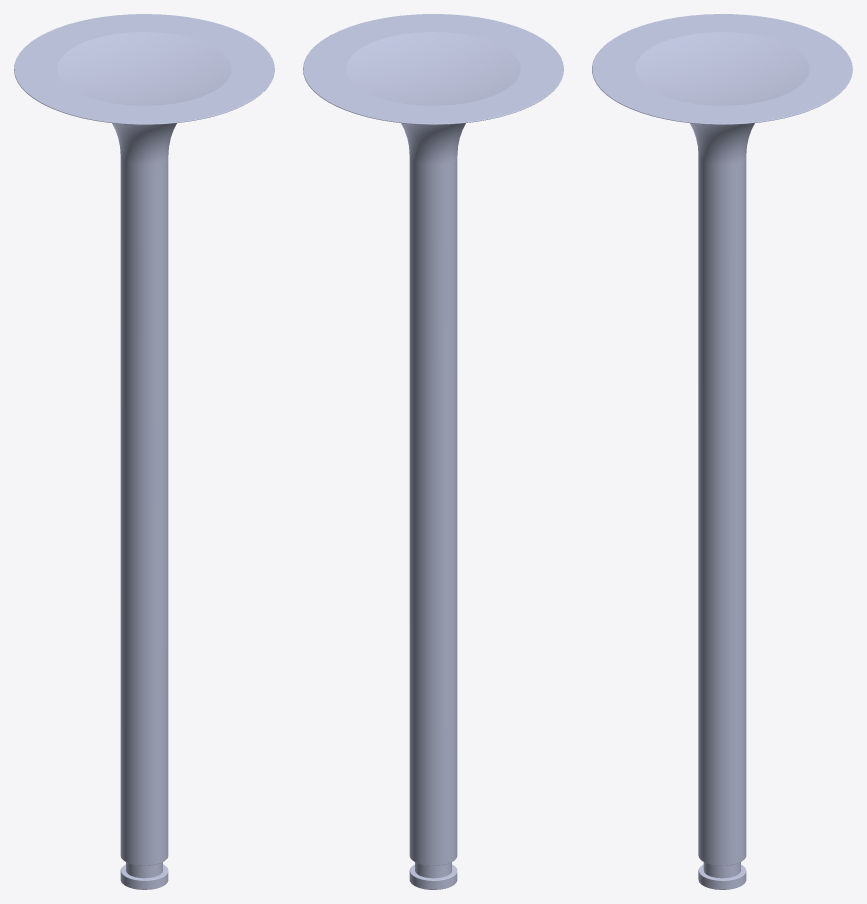
Rendered from Exhaust_Valve.glb.
3 views of the same model, side by side, from view 1: azimuth 30°, elevation 25°; view 2: azimuth 150°, elevation 25°; view 3: azimuth 270°, elevation 25° (orthographic).
Visible parts, largest first — view 1: Exhaust Valve; view 2: Exhaust Valve; view 3: Exhaust Valve.
Boxes of the visible parts, x1=… form: Exhaust Valve: x1=14, y1=14, x2=274, y2=889; Exhaust Valve: x1=303, y1=14, x2=563, y2=889; Exhaust Valve: x1=592, y1=14, x2=852, y2=889.
Bounding box in the file's own units: 0.0245 × 0.0841 × 0.0245.
